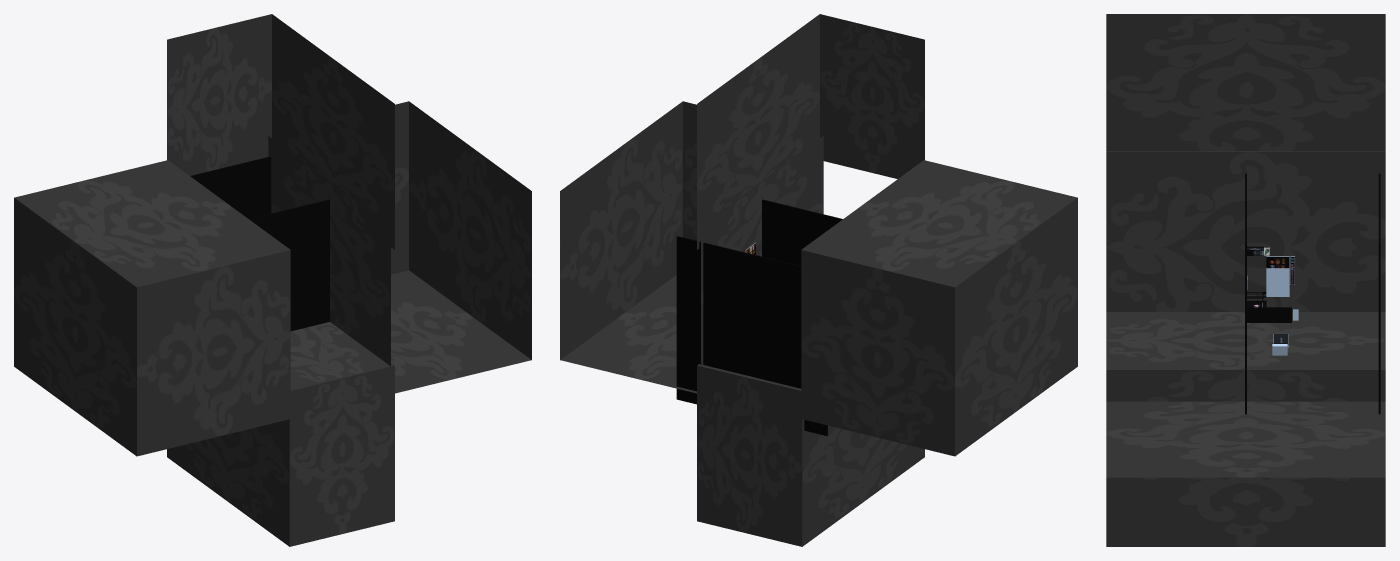
Rendered from caca9.dae.
3 views of the same model, side by side, from view 1: azimuth 30°, elevation 25°; view 2: azimuth 150°, elevation 25°; view 3: azimuth 270°, elevation 25° (orthographic). The views are drawn at different scales.
Visible parts, largest first — view 1: wall01, wall03, wall04, wall02, floor, ceiling; view 2: wall01, wall03, wall04, wall02, ceiling, floor; view 3: wall02, wall01, wall04, wall03, ceiling, door, bottlesBox, floor.
Part boxes in pixels (left/top/right/bottom): wall01: left=14, top=160, right=290, bottom=456; wall03: left=268, top=101, right=531, bottom=393; wall04: left=167, top=14, right=394, bottom=249; wall02: left=167, top=322, right=394, bottom=546; floor: left=249, top=199, right=329, bottom=331; ceiling: left=190, top=156, right=271, bottom=218; wall01: left=801, top=160, right=1077, bottom=456; wall03: left=560, top=101, right=823, bottom=393; wall04: left=697, top=14, right=924, bottom=249; wall02: left=697, top=364, right=924, bottom=546; ceiling: left=676, top=236, right=827, bottom=435; floor: left=762, top=199, right=842, bottom=265; wall02: left=1106, top=312, right=1385, bottom=546; wall01: left=1106, top=151, right=1385, bottom=311; wall04: left=1106, top=14, right=1385, bottom=151; wall03: left=1106, top=401, right=1385, bottom=477; ceiling: left=1378, top=173, right=1380, bottom=414; door: left=1247, top=307, right=1291, bottom=322; bottlesBox: left=1266, top=268, right=1289, bottom=296; floor: left=1245, top=173, right=1246, bottom=414.
Size of the model in its own units: 61.33 by 33.01 by 61.94.
Materials: 31 (14 with a texture image).
